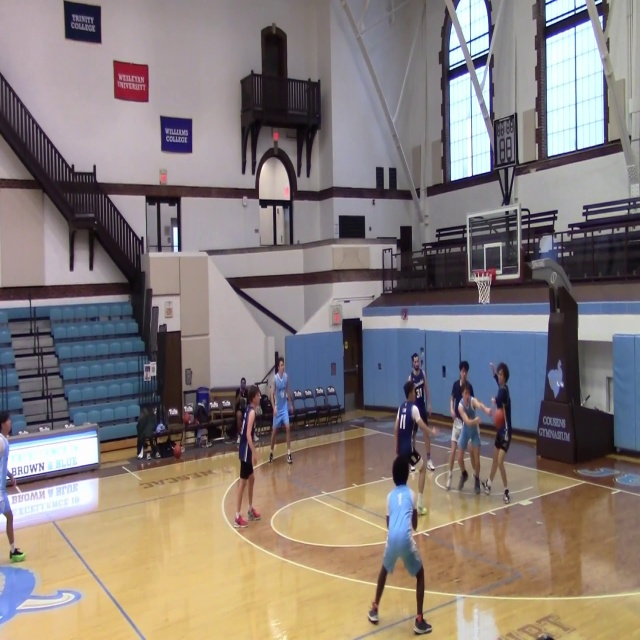Basketball: (493, 408, 505, 428), (183, 412, 192, 423)
